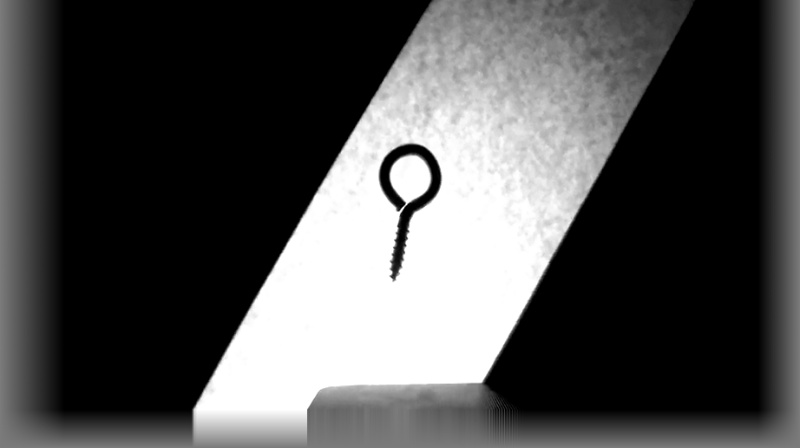O001: (374, 142, 445, 284)
